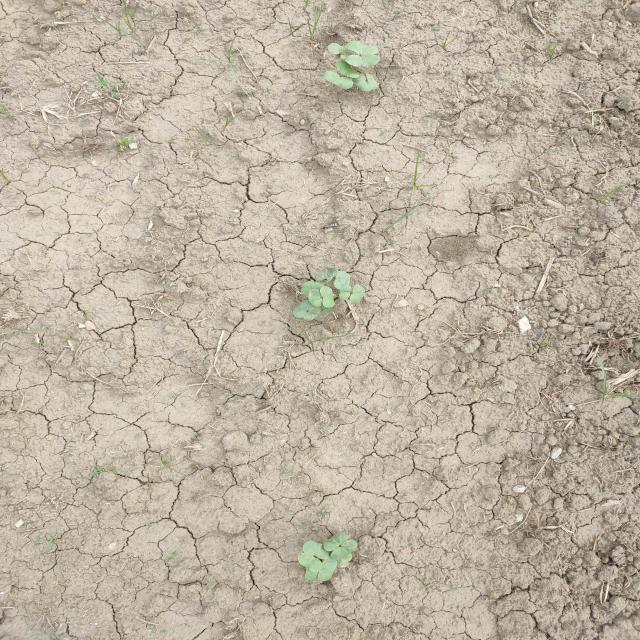seedling_s2: (303, 540, 332, 559), (331, 539, 357, 560), (323, 71, 353, 89), (298, 552, 322, 572), (318, 557, 338, 581), (323, 532, 348, 551), (327, 43, 353, 60), (345, 54, 380, 66), (346, 41, 378, 54), (352, 73, 373, 92), (336, 61, 359, 78), (292, 300, 313, 318), (319, 286, 335, 308), (349, 284, 365, 304), (334, 270, 350, 290), (303, 306, 321, 321), (308, 289, 322, 307), (366, 73, 379, 89), (339, 285, 352, 301), (301, 281, 314, 295), (305, 568, 319, 581), (316, 309, 334, 319)
